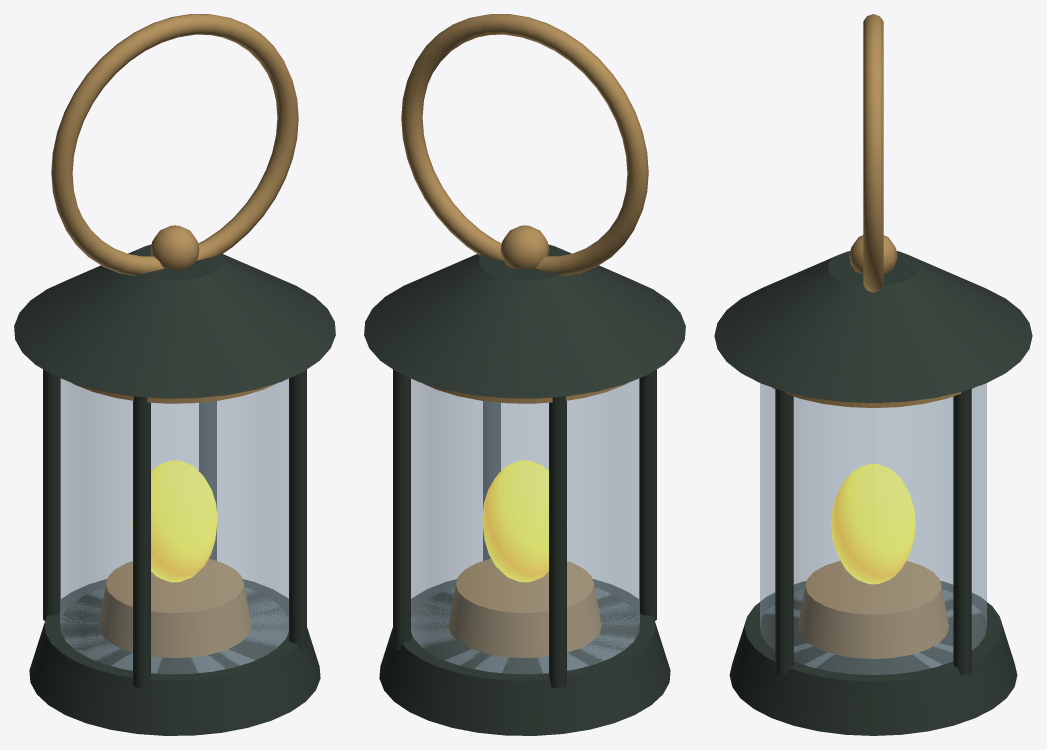
Rendered from lantern.glb.
3 renders of one model, left to right at view 1: azimuth 30°, elevation 25°; view 2: azimuth 150°, elevation 25°; view 3: azimuth 270°, elevation 25°, orthographic.
Visible parts, largest first — view 1: Mesh_Glass, Mesh_Cap, Mesh_Base, Mesh_Handle, Mesh_FuelFont, Mesh_Flame, Mesh_Post_2, Mesh_Post_1, Mesh_Post_3, Mesh_CapKnob, Mesh_Post_4, Mesh_CapRing; view 2: Mesh_Glass, Mesh_Cap, Mesh_Base, Mesh_Handle, Mesh_FuelFont, Mesh_Flame, Mesh_Post_3, Mesh_Post_4, Mesh_Post_2, Mesh_CapKnob, Mesh_Post_1, Mesh_CapRing; view 3: Mesh_Glass, Mesh_Cap, Mesh_Base, Mesh_FuelFont, Mesh_Flame, Mesh_Handle, Mesh_Post_1, Mesh_Post_4, Mesh_CapKnob, Mesh_CapRing.
Boxes of the visible parts, box(x1,y1,x2,y2) form: Mesh_Glass: box(60, 378, 288, 673); Mesh_Cap: box(14, 244, 335, 398); Mesh_Base: box(29, 579, 320, 735); Mesh_Handle: box(51, 14, 298, 275); Mesh_FuelFont: box(98, 558, 251, 657); Mesh_Flame: box(132, 460, 217, 582); Mesh_Post_2: box(133, 396, 150, 688); Mesh_Post_1: box(289, 369, 306, 649); Mesh_Post_3: box(43, 369, 60, 620); Mesh_CapKnob: box(150, 225, 199, 269); Mesh_Post_4: box(199, 401, 216, 560); Mesh_CapRing: box(72, 383, 277, 403); Mesh_Glass: box(411, 378, 639, 673); Mesh_Cap: box(364, 244, 685, 398); Mesh_Base: box(379, 579, 670, 735); Mesh_Handle: box(401, 14, 648, 275); Mesh_FuelFont: box(448, 558, 601, 657); Mesh_Flame: box(482, 460, 567, 582); Mesh_Post_3: box(549, 396, 566, 688); Mesh_Post_4: box(393, 369, 410, 649); Mesh_Post_2: box(639, 369, 656, 620); Mesh_CapKnob: box(500, 225, 549, 269); Mesh_Post_1: box(483, 401, 500, 560); Mesh_CapRing: box(422, 383, 627, 403); Mesh_Glass: box(760, 383, 986, 674); Mesh_Cap: box(714, 251, 1032, 403); Mesh_Base: box(729, 581, 1017, 735); Mesh_FuelFont: box(798, 561, 948, 658); Mesh_Flame: box(831, 463, 915, 584); Mesh_Handle: box(863, 14, 883, 292); Mesh_Post_1: box(775, 388, 793, 675); Mesh_Post_4: box(953, 388, 971, 675); Mesh_CapKnob: box(849, 235, 897, 274); Mesh_CapRing: box(772, 387, 974, 407).
Bounding box in the file's own units: 0.21 × 0.472 × 0.21.
